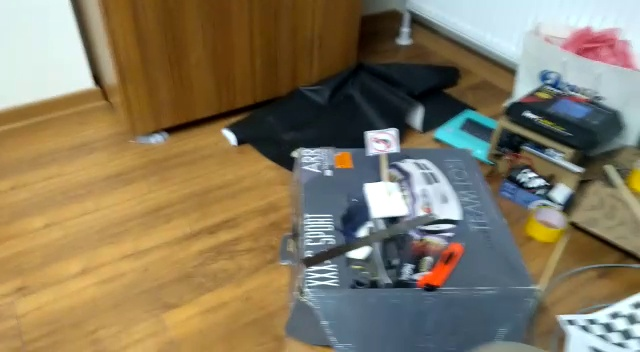sola_donulmez: (368, 128, 397, 154)
